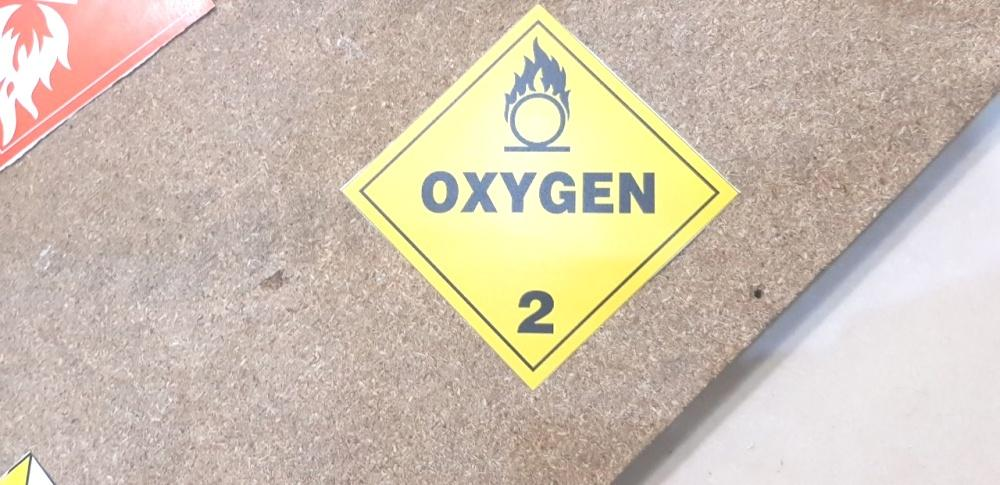oxidizer: (344, 6, 736, 389)
